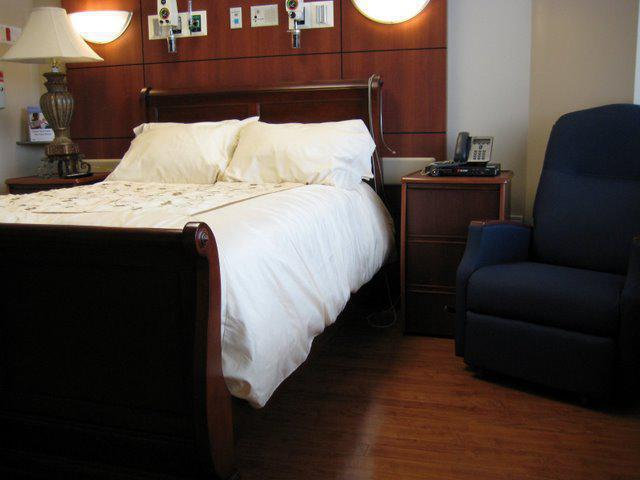Cama: (0, 126, 360, 468)
